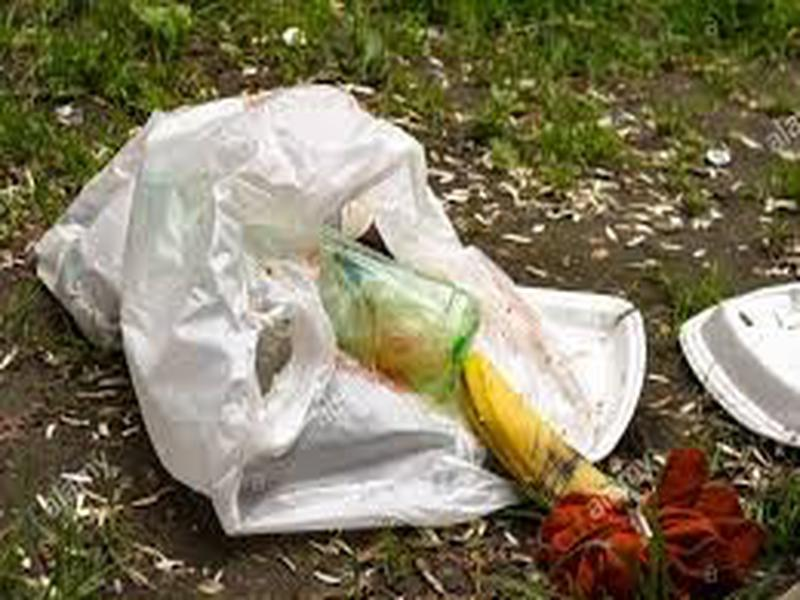flowers: (511, 435, 773, 596)
paper: (659, 265, 800, 445)
plastic: (29, 66, 562, 516)
